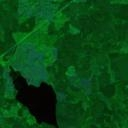alloviz: (11, 72, 59, 128)
